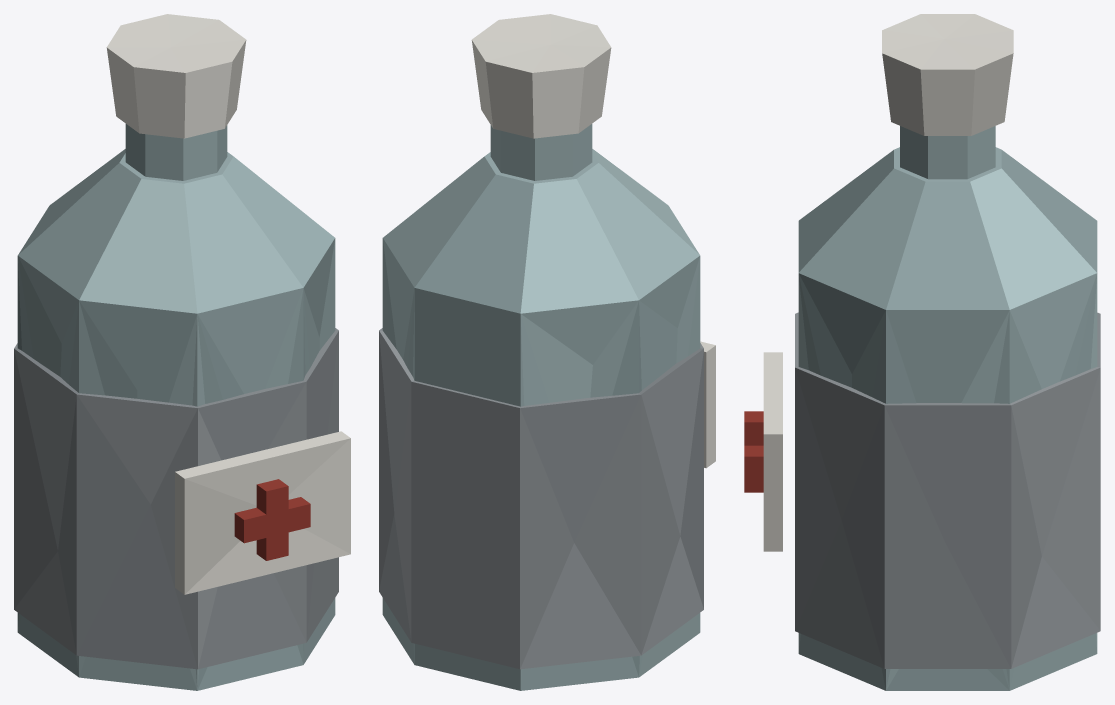
Rendered from poison_vial_antidot_idle.glb.
The picture shows the model from 3 angles, left to right: view 1: azimuth 30°, elevation 25°; view 2: azimuth 150°, elevation 25°; view 3: azimuth 270°, elevation 25°; orthographic projection.
Parts seen in each view (by area): view 1: poison_vial_antidot_idle; view 2: poison_vial_antidot_idle; view 3: poison_vial_antidot_idle.
Boxes of the visible parts, x1=… form: poison_vial_antidot_idle: x1=14, y1=14, x2=350, y2=690; poison_vial_antidot_idle: x1=379, y1=14, x2=715, y2=690; poison_vial_antidot_idle: x1=744, y1=14, x2=1100, y2=690.
Size of the model in its own units: 0.0473 by 0.1 by 0.0552.
1 material, 1 textured.
